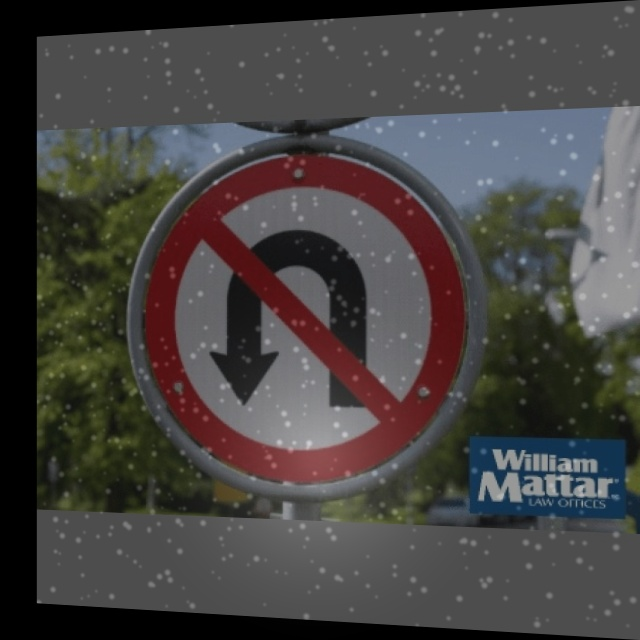U_Turn_Prohibited: (133, 135, 465, 472)
